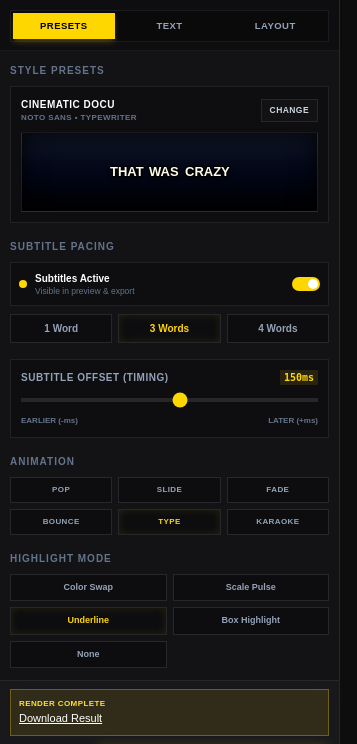
Scenario: SidebarSettings Component › switches tabs smoothly when clicked
This screenshot has width=357, height=744.
Note: Click Text tab
Click the button with class "tab-btn" showing "Text": [170, 26] box [119,13,220,39]
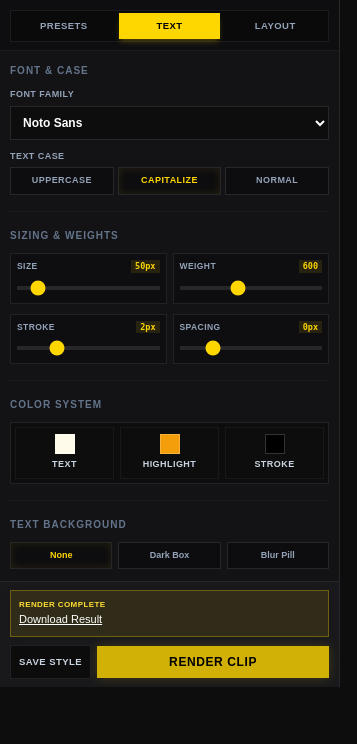
expect the text "Font Family" is shown: met, box [10,89,74,99]
expect the text "Size" is shown: met, box [17,260,38,273]
Note: Click Layout tab
Click the button with class "tab-btn" showing "Layout": [275, 26] box [224,13,326,39]
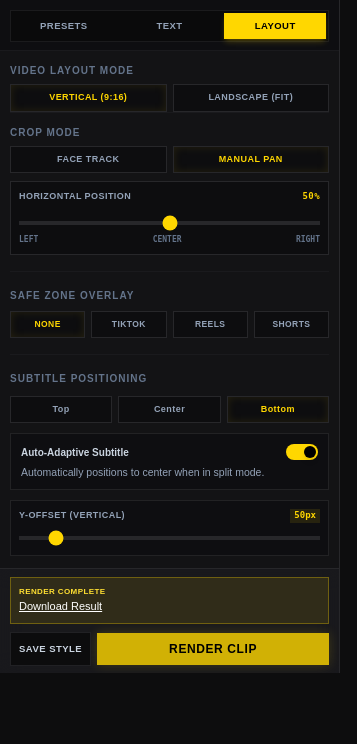
expect the text "Safe Zone Overlay" is shown: met, box [10,288,134,303]
expect the text "Y-Offset (Vertical)" is shown: met, box [19,509,125,523]
